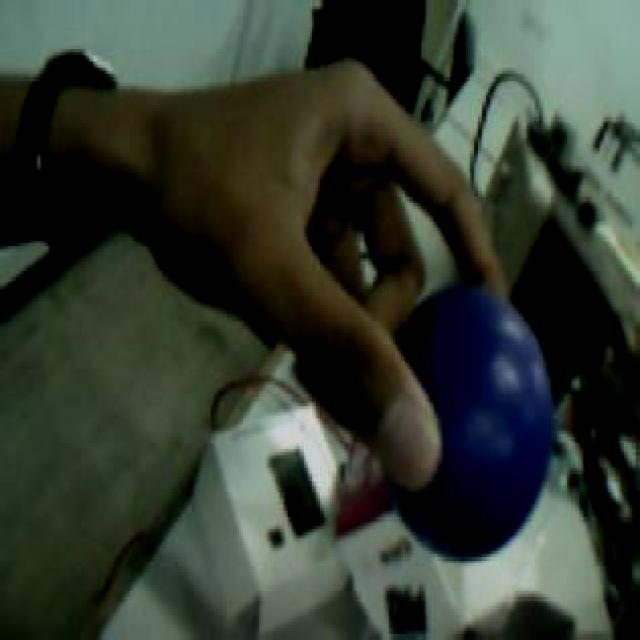BallPurple: (377, 282, 552, 561)
